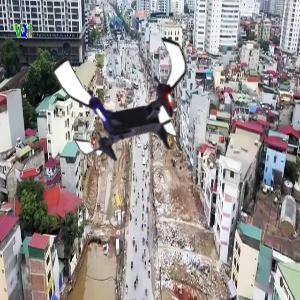drone: (58, 25, 204, 171)
